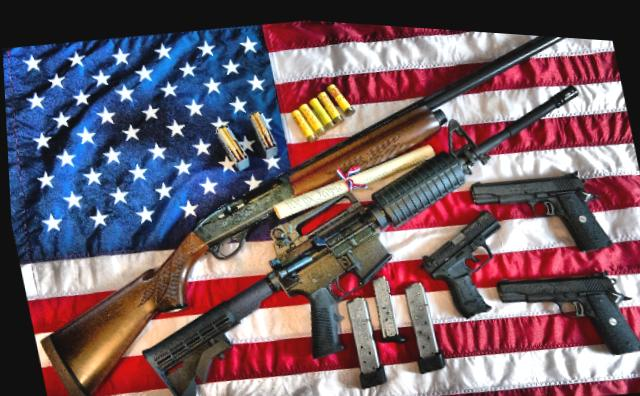pistol: (490, 249, 640, 363), (465, 154, 613, 261), (405, 196, 514, 319)
